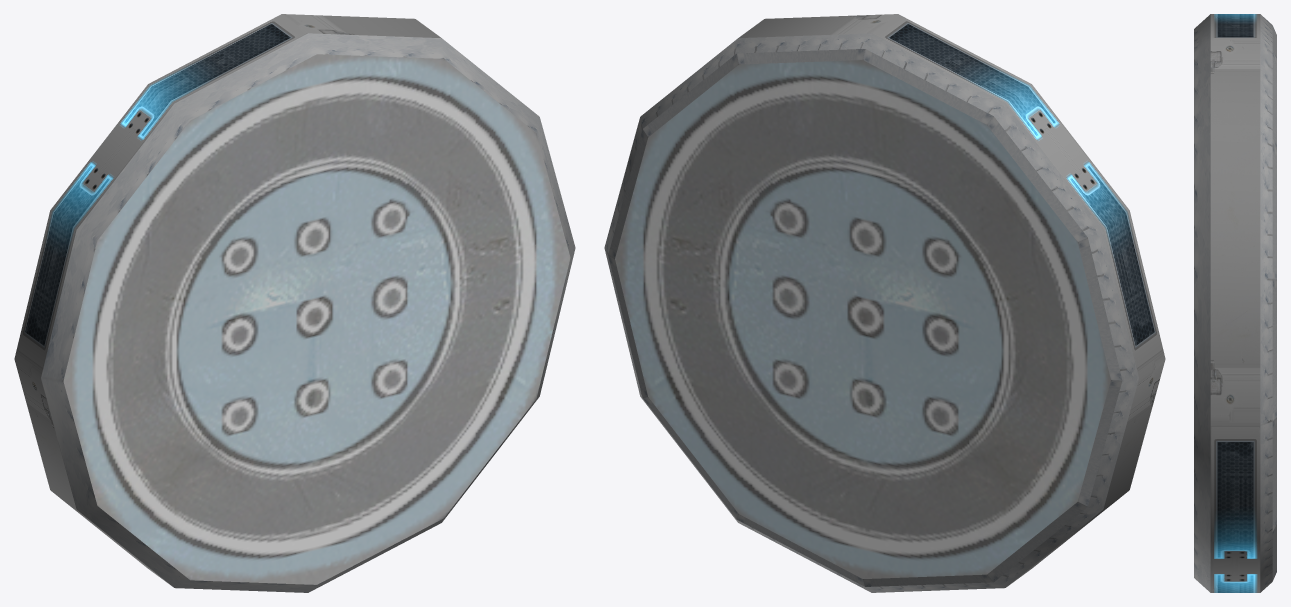
Rendered from SM_ContPipes.fbx.
3 renders of one model, left to right at view 1: azimuth 30°, elevation 25°; view 2: azimuth 150°, elevation 25°; view 3: azimuth 270°, elevation 25°, orthographic. The views are drawn at different scales.
Parts seen in each view (by area): view 1: SM_ContPipes_LOD0; view 2: SM_ContPipes_LOD0; view 3: SM_ContPipes_LOD0.
Boxes of the visible parts, <box> form: SM_ContPipes_LOD0: <box>14,14,575,592</box>; SM_ContPipes_LOD0: <box>604,14,1165,592</box>; SM_ContPipes_LOD0: <box>1194,14,1276,592</box>.
Size of the model in its own units: 70.01 by 9.98 by 70.01.
3 materials, 3 textured.
